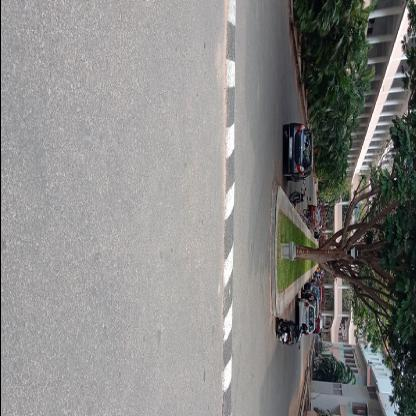speed-bumps: (212, 1, 240, 415)
